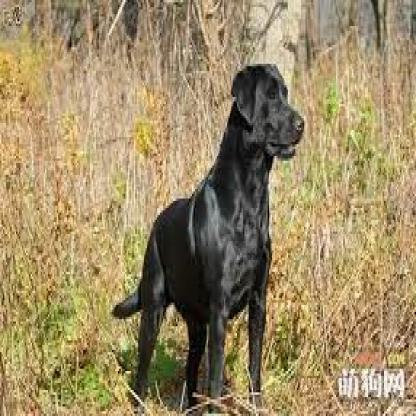dog: (112, 58, 303, 403)
